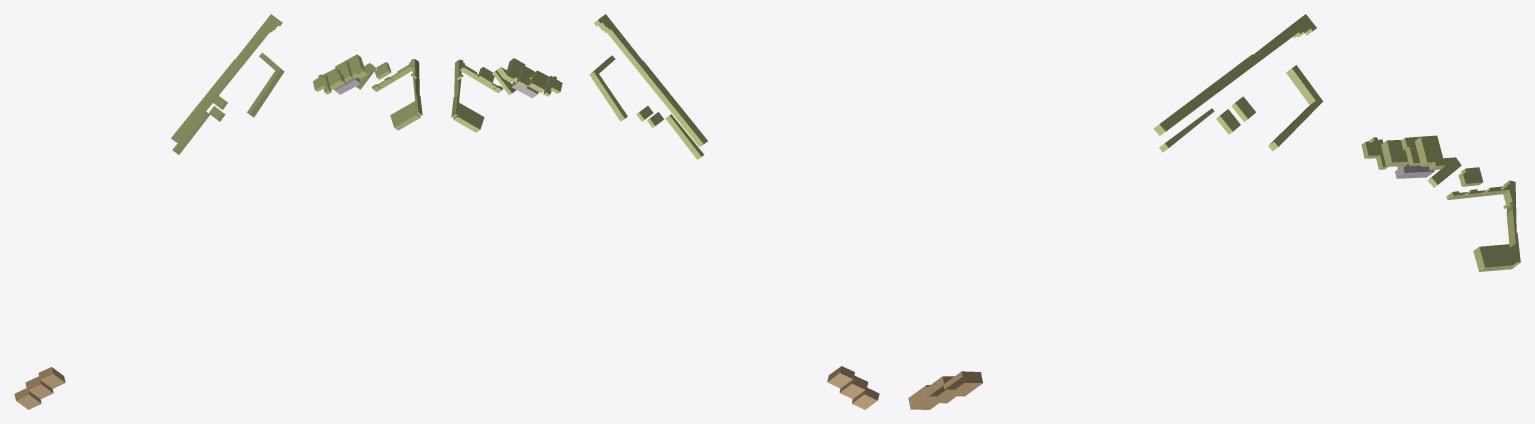
The picture shows the model from 3 angles, left to right: view 1: azimuth 30°, elevation 25°; view 2: azimuth 150°, elevation 25°; view 3: azimuth 330°, elevation 25°; orthographic projection. The views are drawn at different scales.
Visible parts, largest first — view 1: 0_0_1_1_3; view 2: 0_0_1_1_3; view 3: 0_0_1_1_3.
Part boxes in pixels (x1,y1,x2,y2): 0_0_1_1_3: (14, 14, 422, 409); 0_0_1_1_3: (451, 14, 879, 409); 0_0_1_1_3: (908, 14, 1520, 409).
Size of the model in its own units: 507 by 386 by 42.9.
